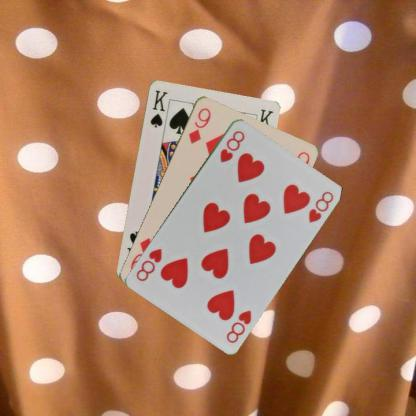8h: (223, 307, 253, 344), (217, 127, 246, 164)
9d: (186, 105, 212, 145)
Ks: (147, 87, 169, 129)
